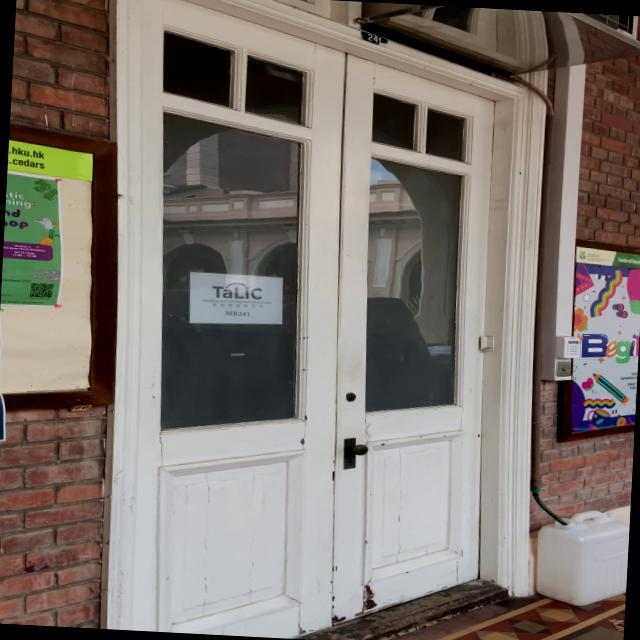room241: (358, 29, 392, 50)
